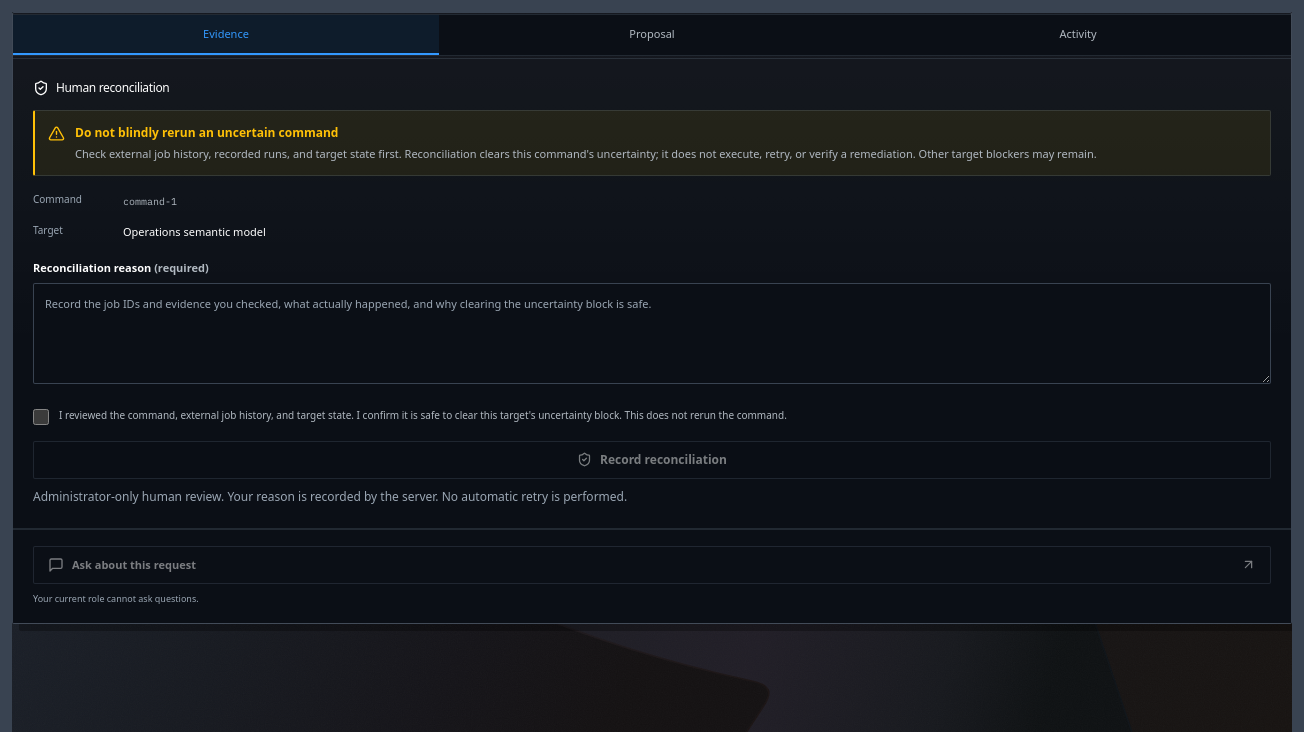
it: human command reconciliation › is wired into command detail and refreshes that same record after reconciliation
(page scrolled)
Type "Target and external job history checked." into the text box labelled "Reconciliation reason (required)".
click(652, 334); type("Target and external job history checked.")  # box [33, 283, 1271, 384]
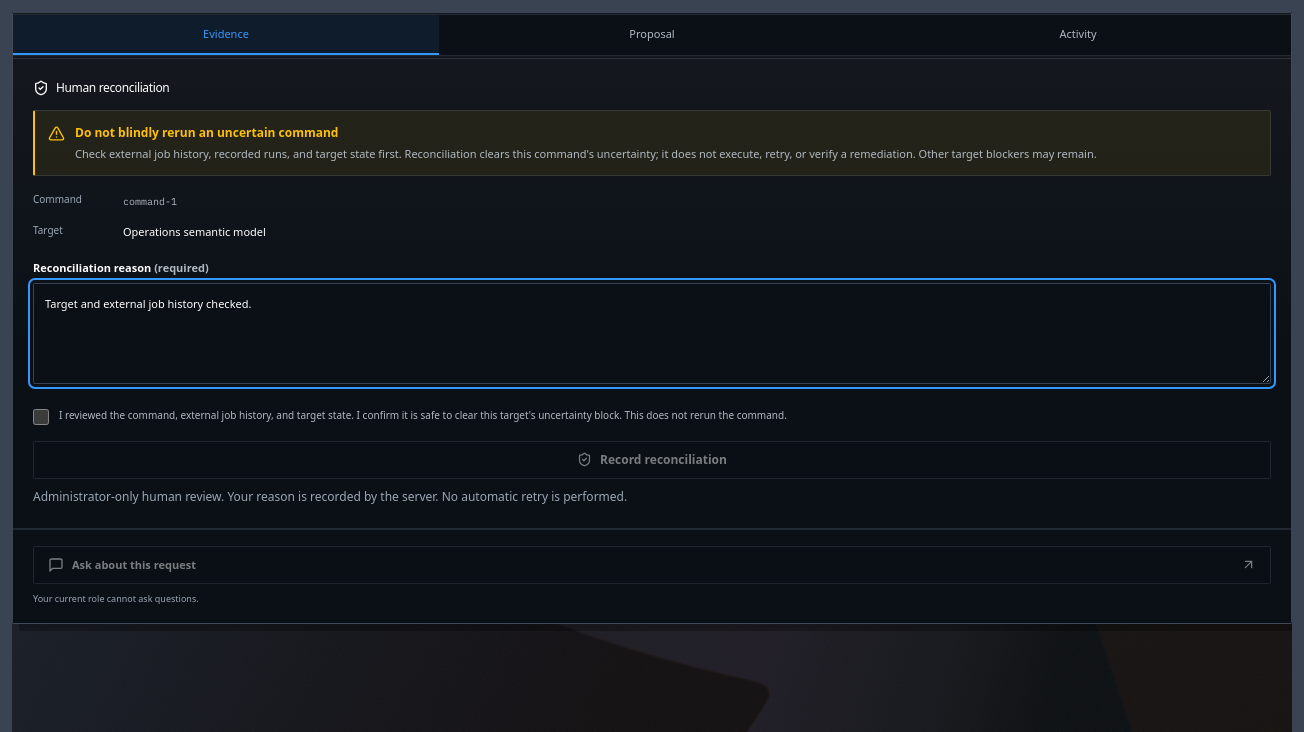
Click the checkbox.
click(41, 416)  # box [33, 408, 49, 424]
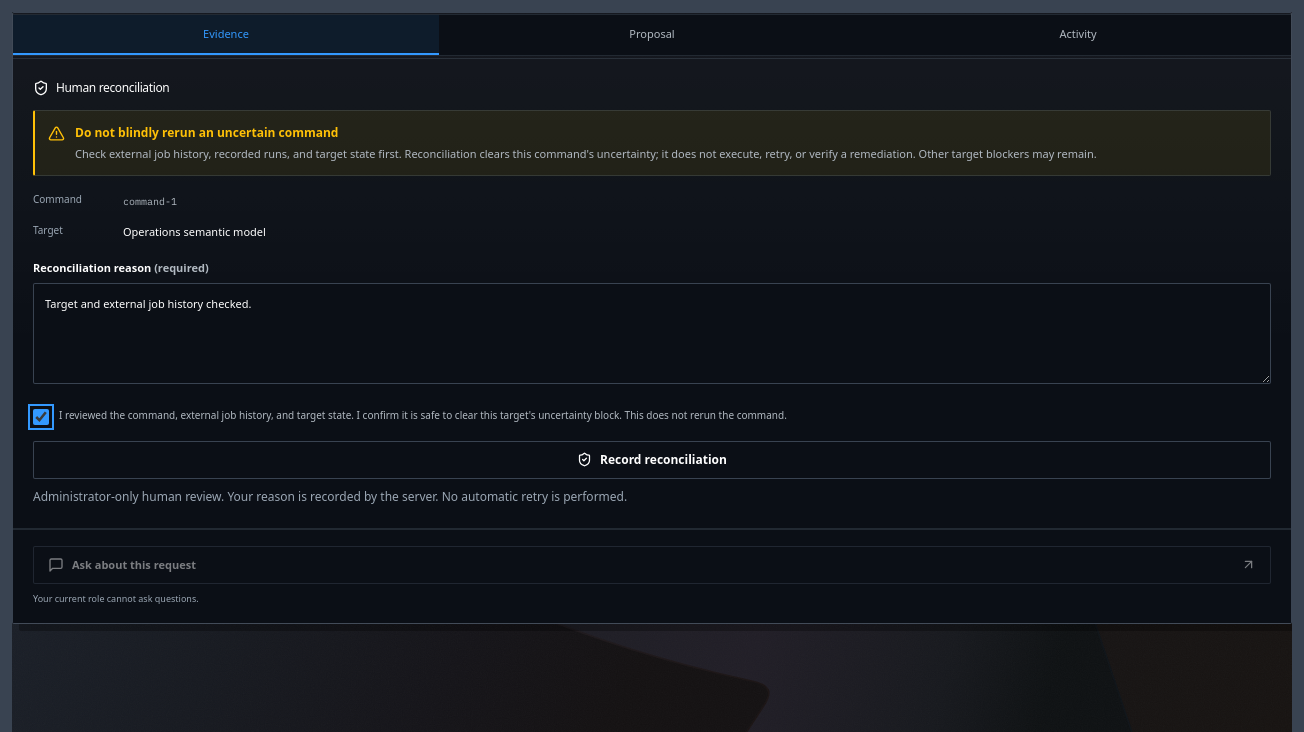
Click the button "Record reconciliation".
click(652, 460)  # box [33, 440, 1271, 478]
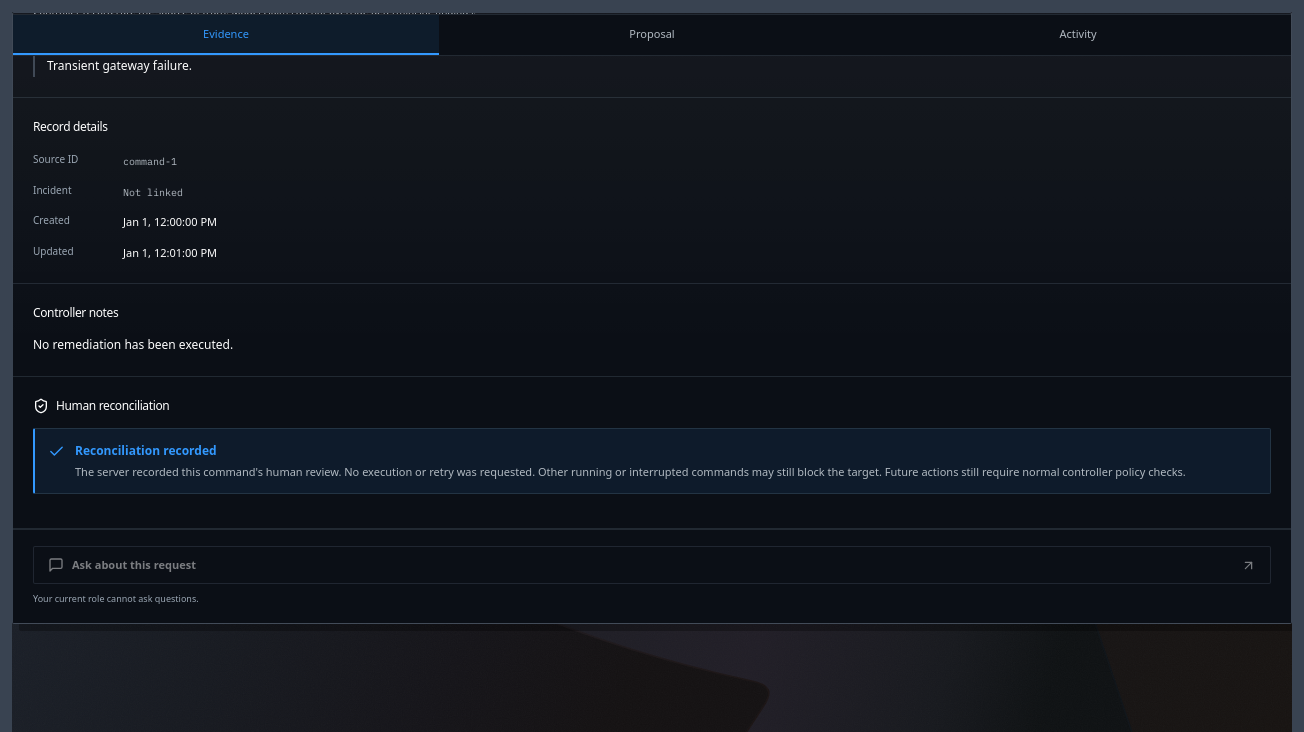
Expected: the text "Reconciliation recorded" is shown, [75, 442, 217, 459]
